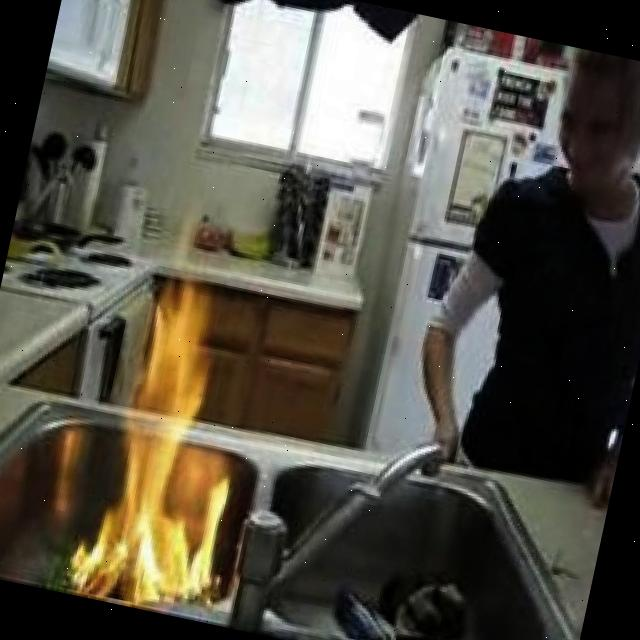fire: (64, 262, 274, 614)
